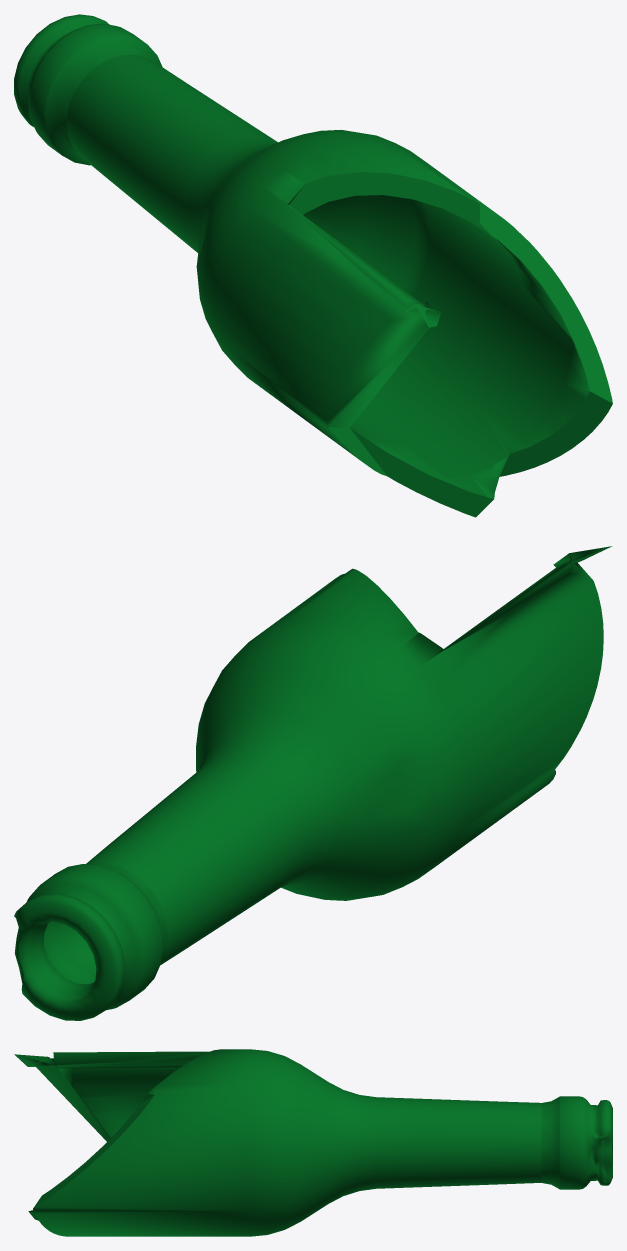
Rendered from glass_bottle_broken.fbx.
3 views of the same model, one above another, from view 1: azimuth 30°, elevation 25°; view 2: azimuth 150°, elevation 25°; view 3: azimuth 270°, elevation 25° (orthographic). The views are drawn at different scales.
Visible parts, largest first — view 1: Bottle.001; view 2: Bottle.001; view 3: Bottle.001.
Boxes of the visible parts, <box> form: Bottle.001: <box>14,14,612,517</box>; Bottle.001: <box>14,546,612,1020</box>; Bottle.001: <box>14,1049,612,1236</box>.
Bounding box in the file's own units: 1743 × 1739 × 5567.
